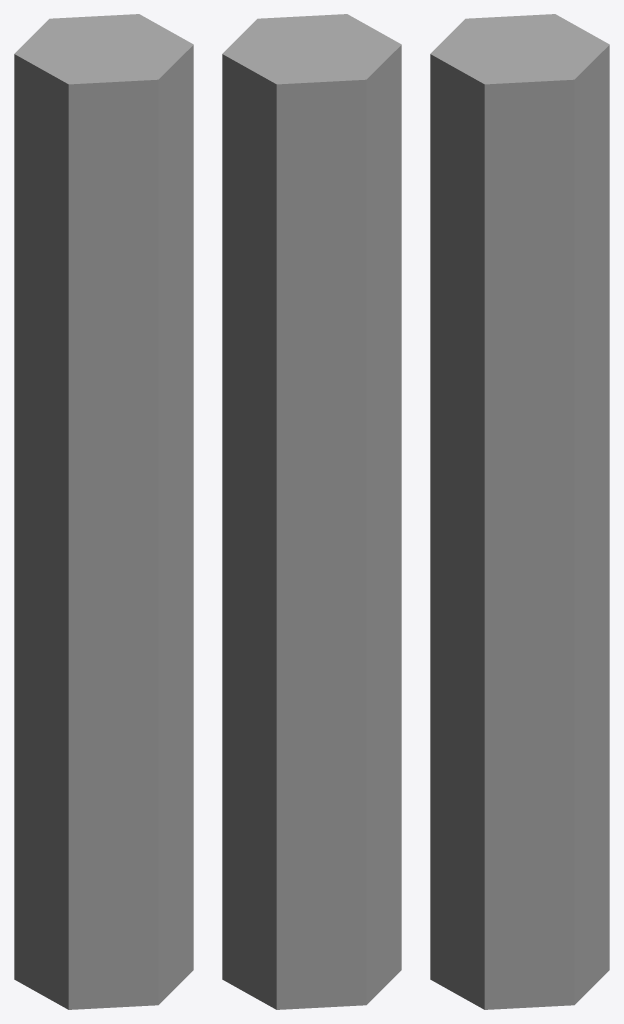
File: Building Pipe 0.fbx
3 views of the same model, side by side, from view 1: azimuth 30°, elevation 25°; view 2: azimuth 150°, elevation 25°; view 3: azimuth 270°, elevation 25° (orthographic).
Visible parts, largest first — view 1: Building Pipe 0; view 2: Building Pipe 0; view 3: Building Pipe 0.
Part boxes in pixels (x1,y1,x2,y2): Building Pipe 0: (14,14,193,1009); Building Pipe 0: (222,14,401,1009); Building Pipe 0: (430,14,609,1009).
Size of the model in its own units: 25.95 by 27.97 by 159.
